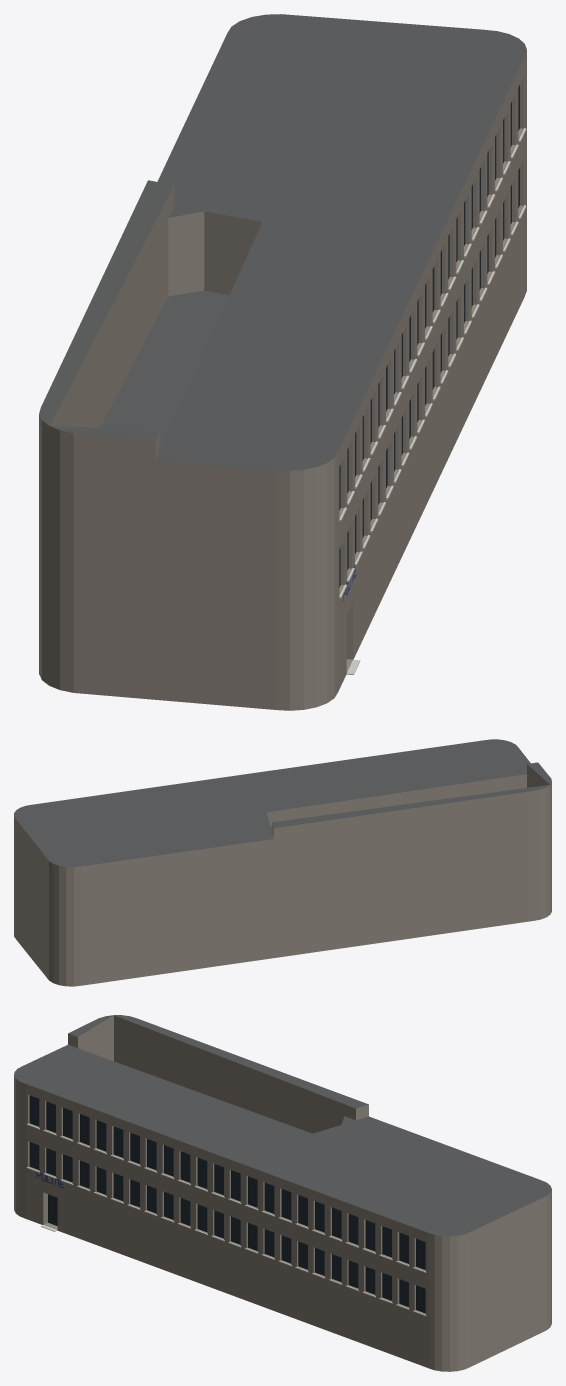
The model's file is recipe-large-politie-oost-zeeburg.glb.
3 views of the same model, one above another, from view 1: azimuth 30°, elevation 25°; view 2: azimuth 150°, elevation 25°; view 3: azimuth 270°, elevation 25° (orthographic). The views are drawn at different scales.
Parts seen in each view (by area): view 1: politie-oost-zeeburg; view 2: politie-oost-zeeburg; view 3: politie-oost-zeeburg.
Part boxes in pixels (x1,y1,x2,y2): politie-oost-zeeburg: (39,14,526,710); politie-oost-zeeburg: (14,739,551,986); politie-oost-zeeburg: (14,1015,551,1371).
Size of the model in its own units: 41.8 by 13.51 by 45.1.
